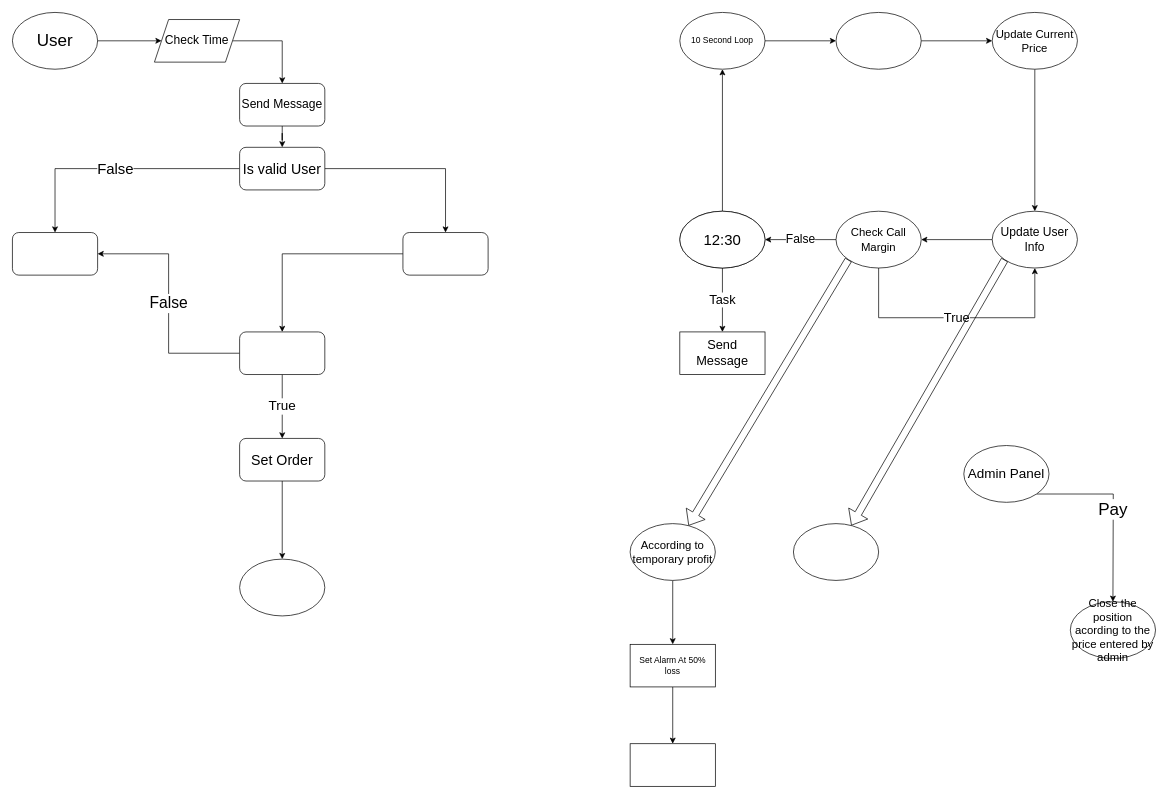
Image size: 1168x799. Some labels were removed from this diagram. Here are the shapes that lost their labels. From the top down, the centre of each, then its label:
(878,40): Update Current Time
(55,253): Delete Message
(445,253): Process Message
(282,353): Is Message Valid?
(836,551): According to exact Profit
(282,587): Make Positions
(672,764): Close All Positions At 70% loss
